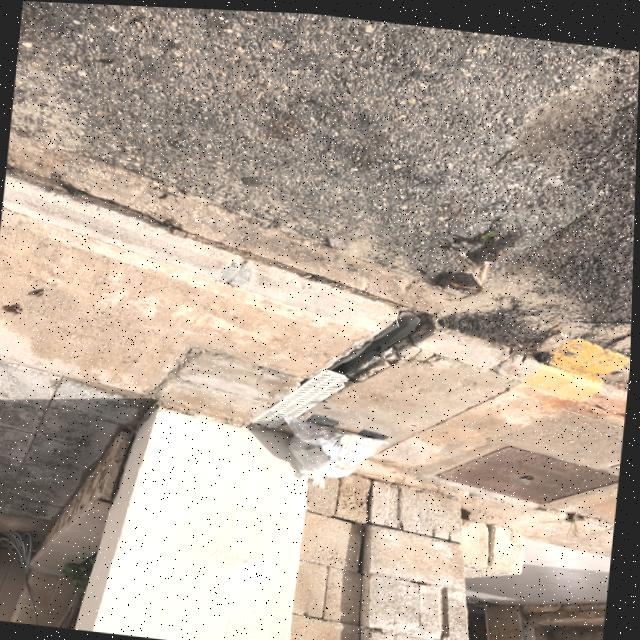Organic Waste -White Bag-: (279, 405, 388, 492)
